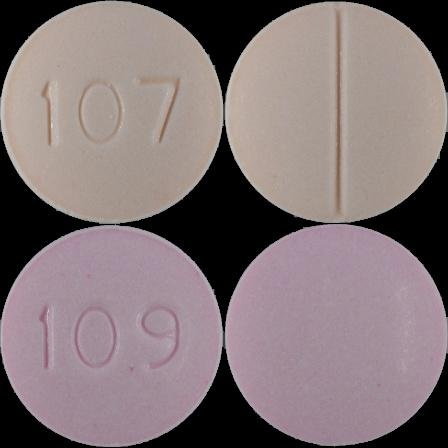57664-107: (0, 0, 224, 224)
